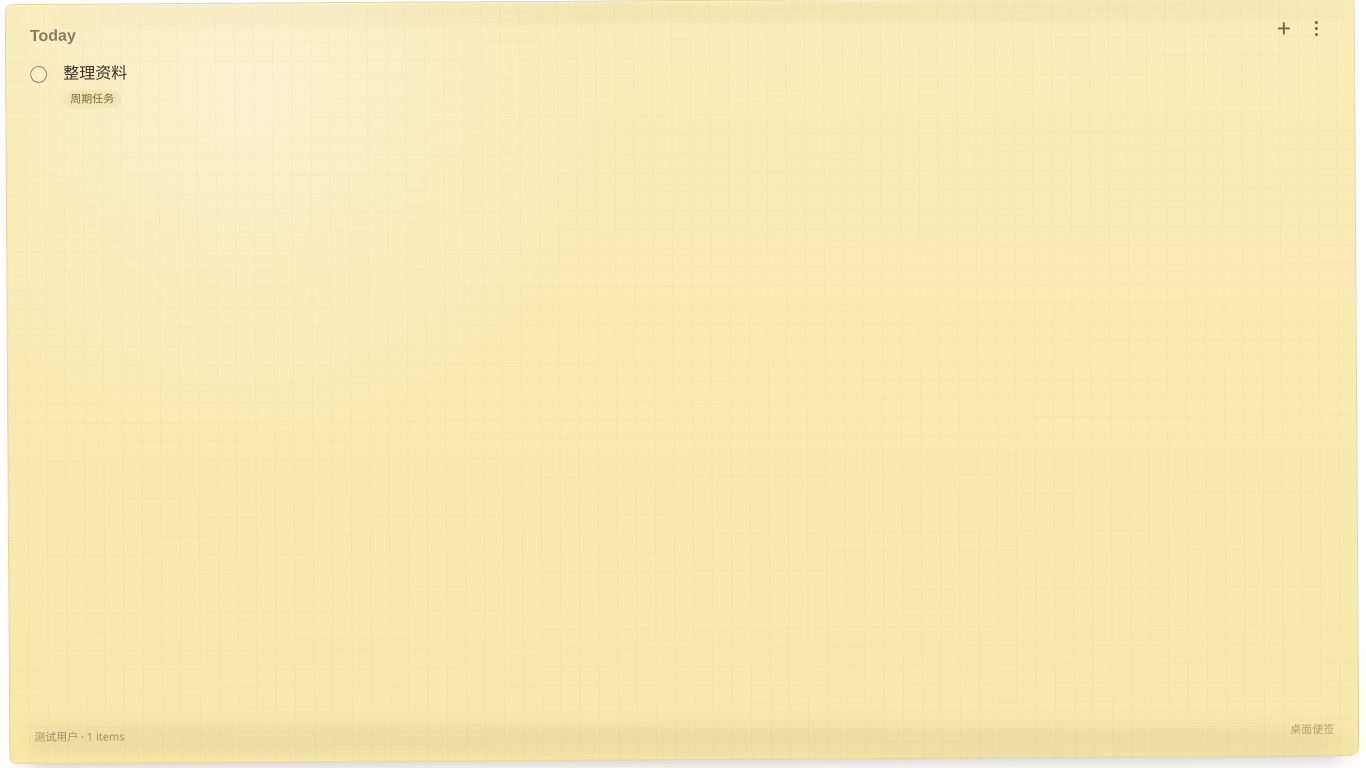
桌面便签核心交互 › 从周期任务详情进入规则编辑时读取最新规则
Click the button with class "task-main".
click(95, 73)  # box [63,55,1330,108]
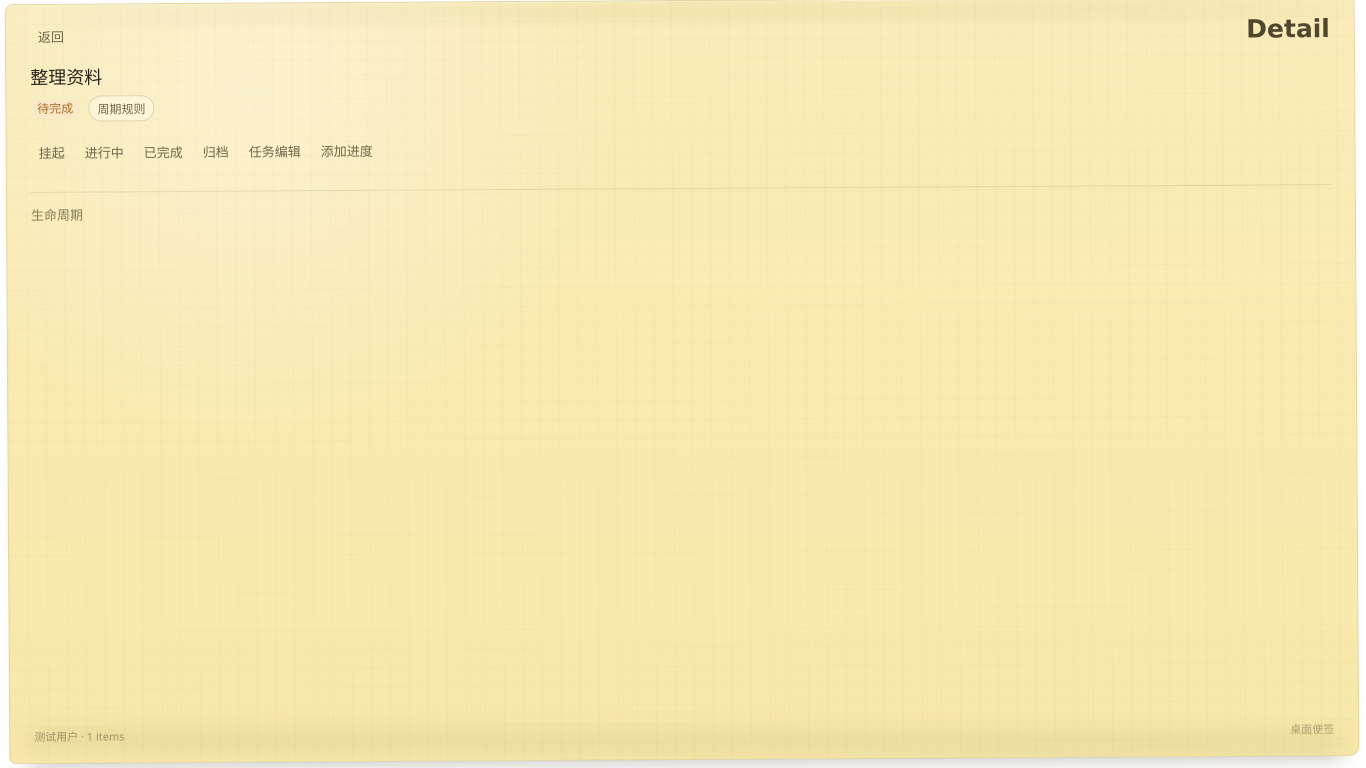
Click the button "周期规则".
click(121, 108)  # box [88,95,154,122]
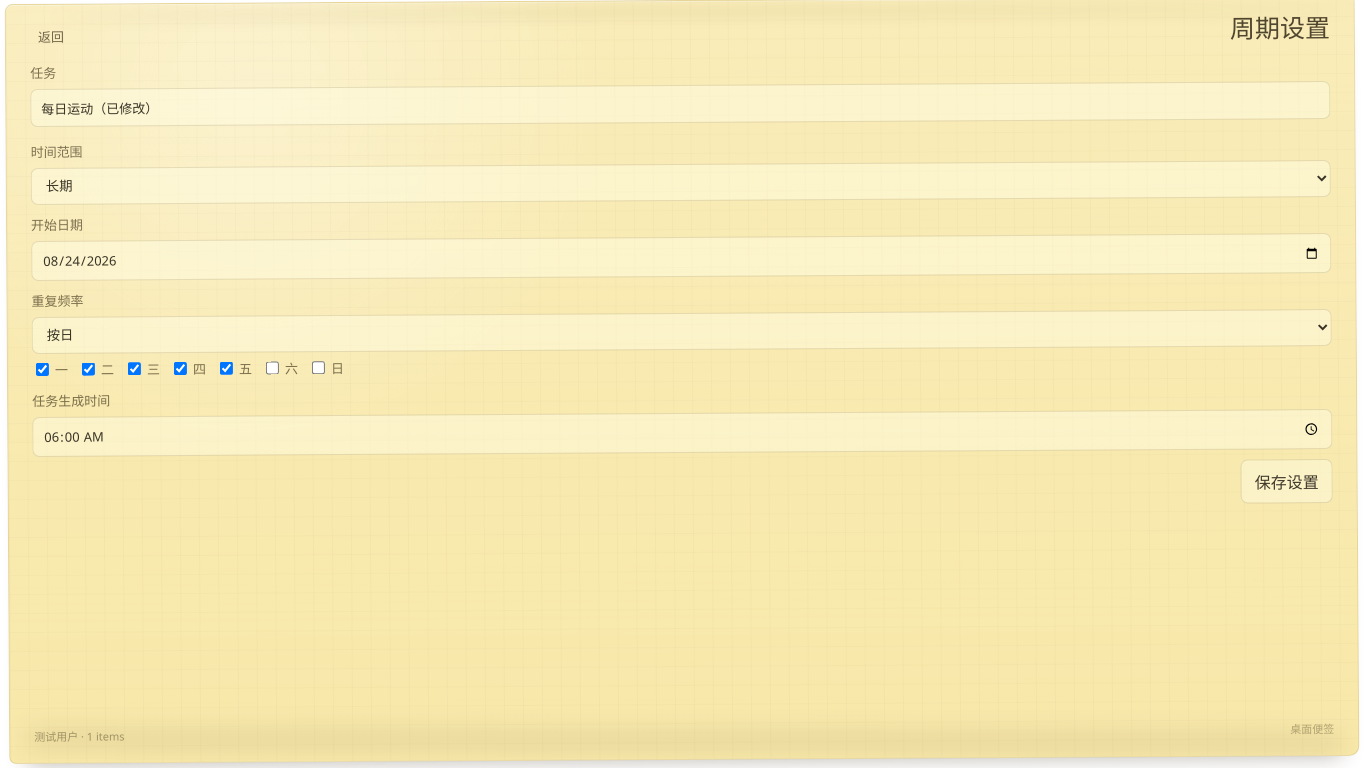
Expected: the field labelled "任务" holds "每日运动（已修改）", [30,81,1330,127]
